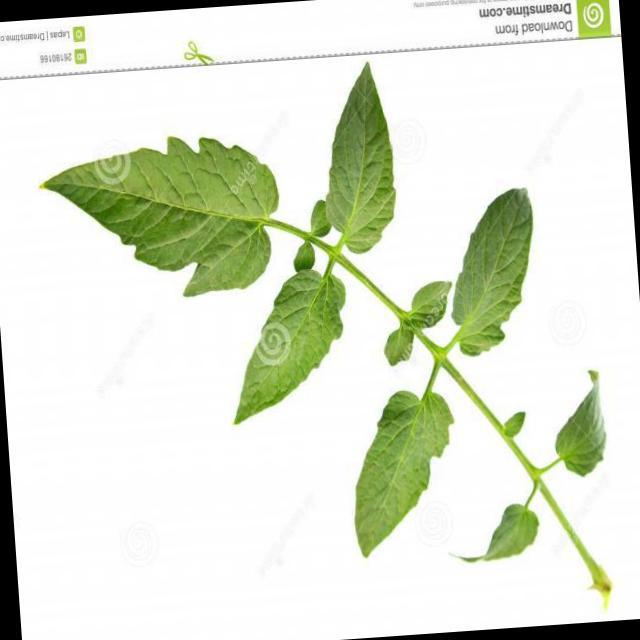Healthy Leaf: (27, 87, 282, 325), (320, 366, 493, 585), (183, 253, 378, 439), (390, 172, 561, 372), (276, 57, 434, 273), (542, 358, 626, 484), (447, 483, 546, 588)
